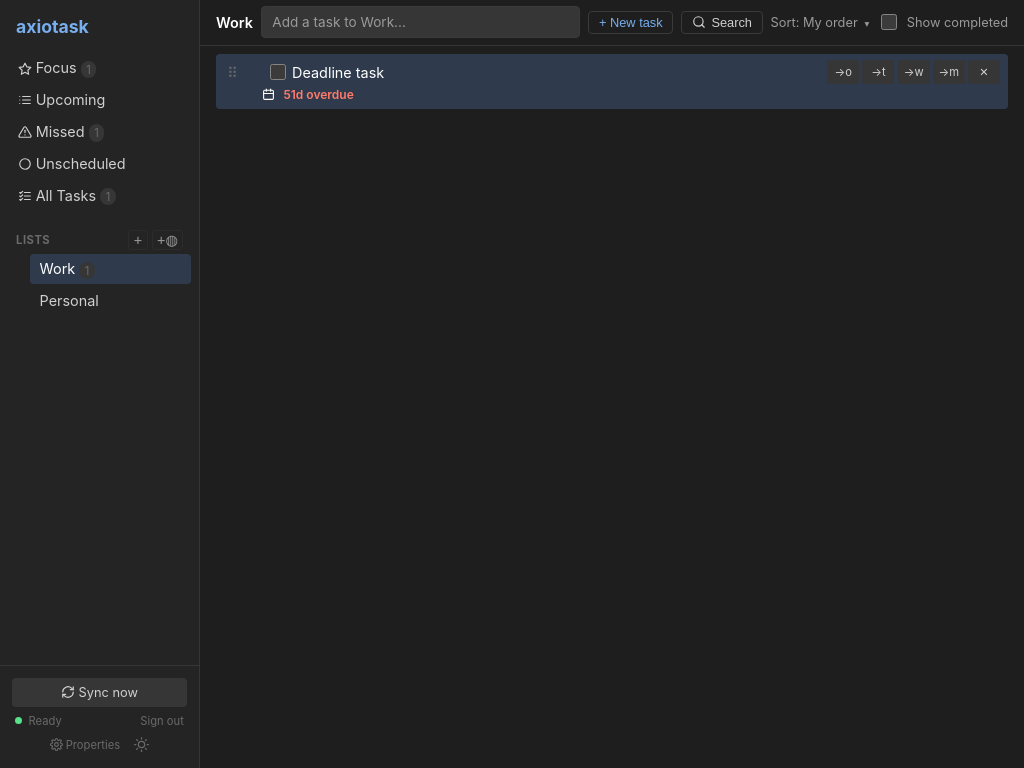
GH#17: Search overlay › shows due date for each result
Step 1. Press /
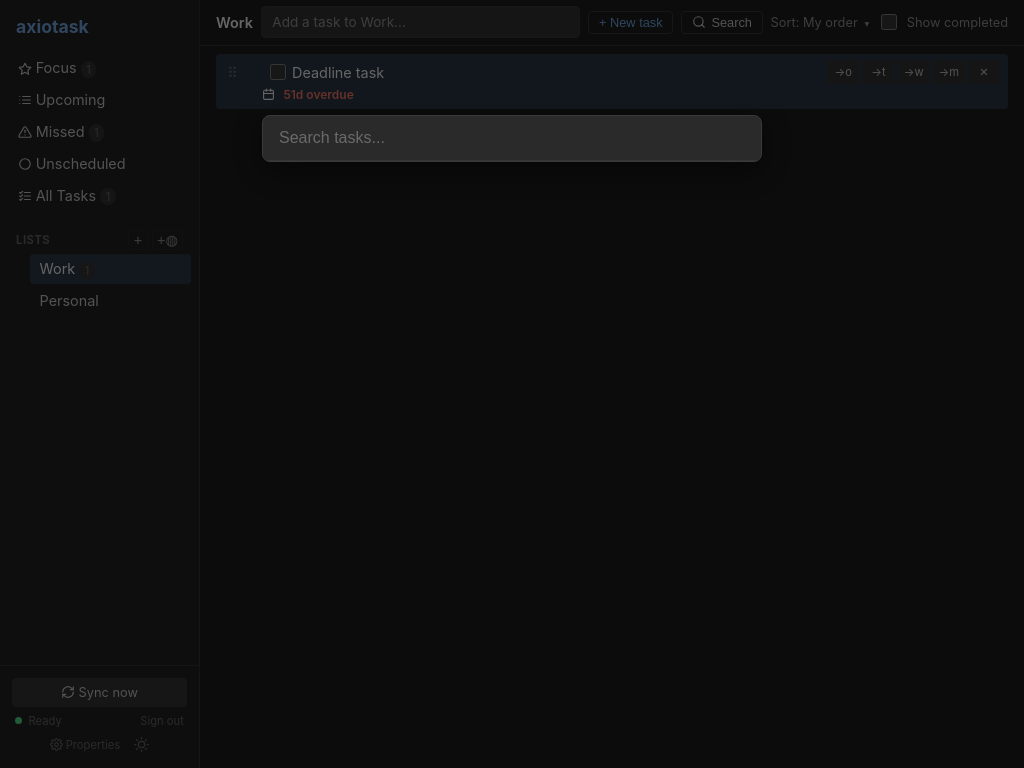
Step 2. Type "deadline" into the field with placeholder "Search tasks..." → point(512, 138), box [263,116,761,161]
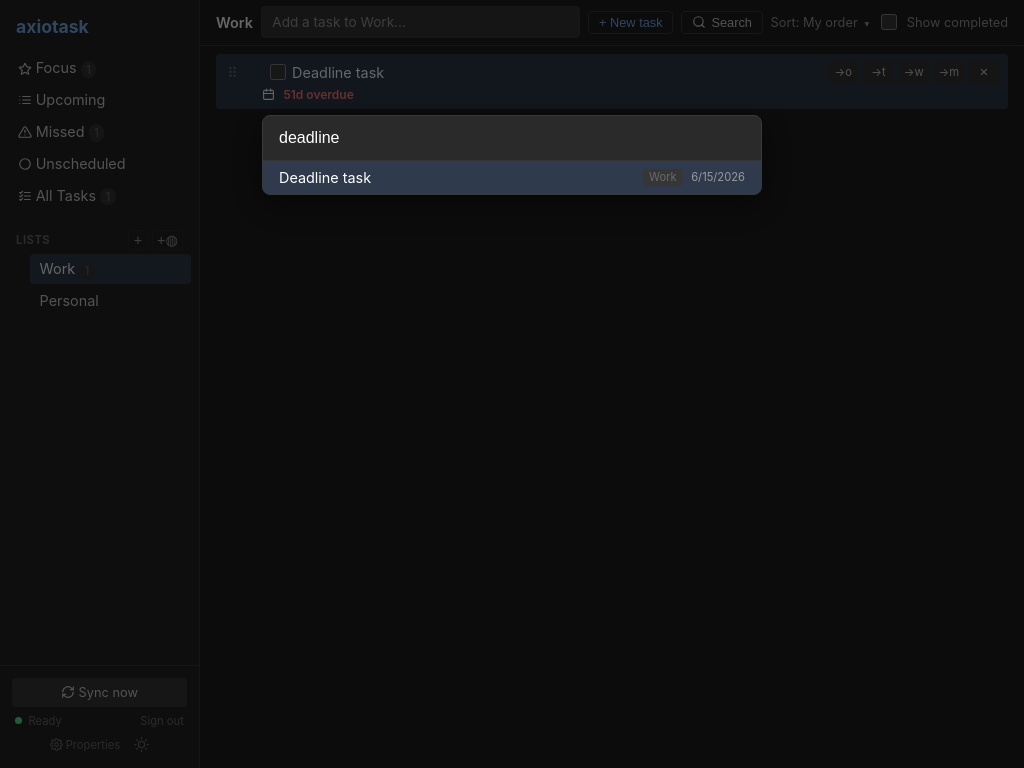
Expected: the text with class "result-due" reads "6/15/2026", [691,170,745,184]
